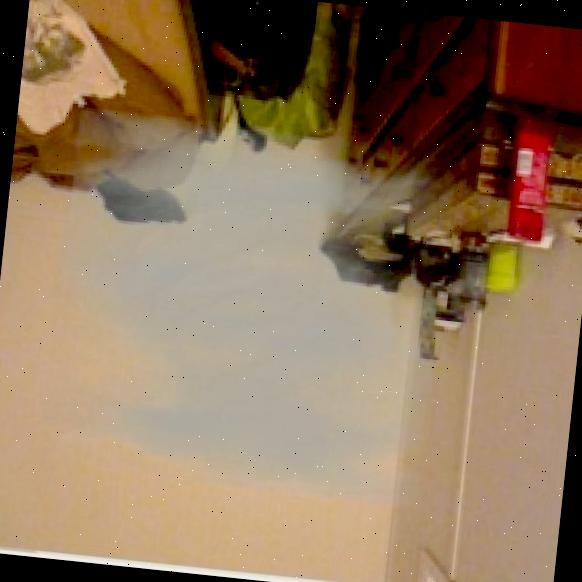smoke: (34, 106, 458, 510)
